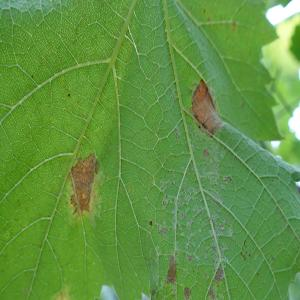Folha: (0, 0, 299, 299)
Fungo: (156, 147, 248, 284), (189, 78, 225, 137), (68, 152, 100, 217), (165, 254, 177, 285), (240, 240, 251, 260), (214, 266, 224, 284), (70, 194, 78, 215), (207, 286, 215, 300), (157, 224, 167, 235), (183, 286, 190, 299), (202, 148, 210, 158), (174, 127, 180, 137), (149, 220, 153, 226), (67, 92, 71, 98), (270, 254, 274, 260)
